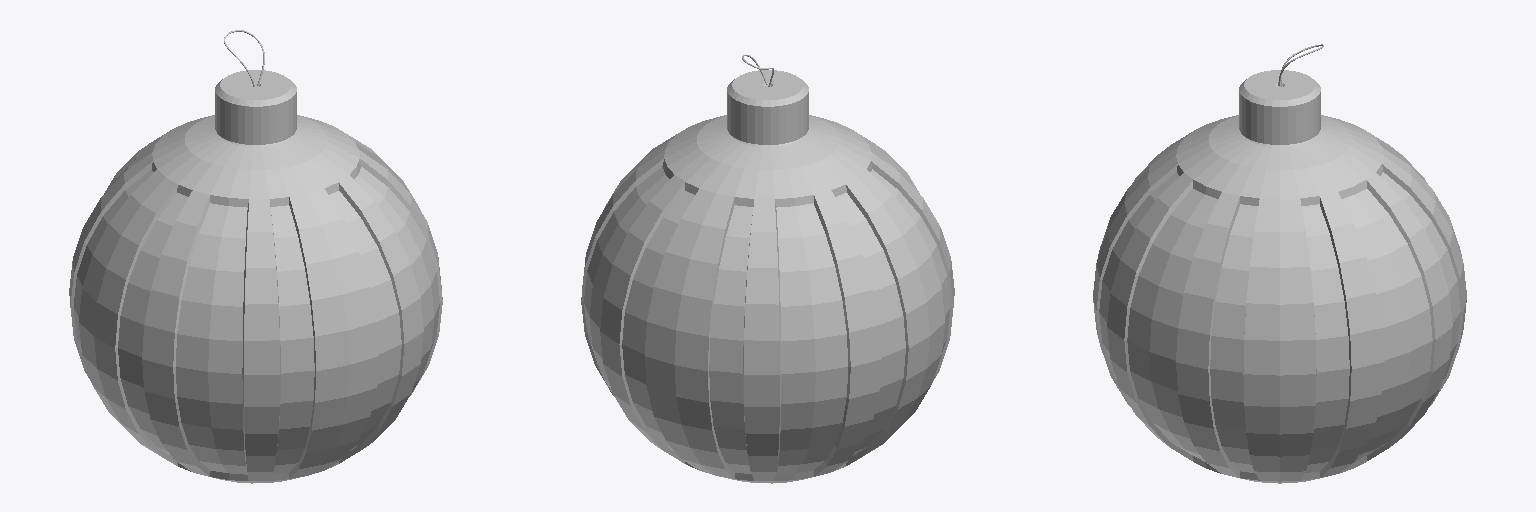
Rendered from christmas balls.obj.
The picture shows the model from 3 angles: view 1: azimuth 30°, elevation 25°; view 2: azimuth 150°, elevation 25°; view 3: azimuth 270°, elevation 25°; orthographic projection.
Visible parts, largest first — view 1: Sphere, Sphere.002; view 2: Sphere, Sphere.002; view 3: Sphere, Sphere.002.
Boxes of the visible parts, box(x1,y1,x2,y2) form: Sphere: box(69, 115, 442, 483); Sphere.002: box(215, 70, 296, 144); Sphere: box(581, 115, 954, 483); Sphere.002: box(727, 70, 808, 144); Sphere: box(1093, 115, 1466, 483); Sphere.002: box(1239, 70, 1320, 144).
Bounding box in the file's own units: 0.2806 × 0.3476 × 0.2806.